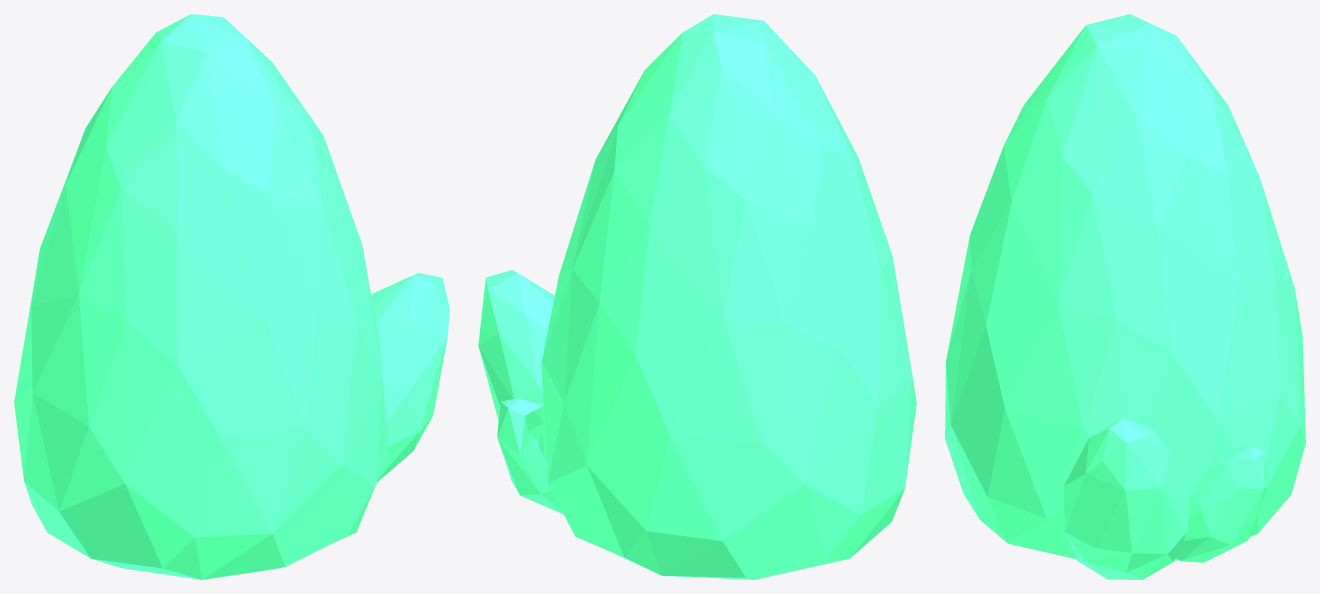
File: Crsital_Cura.fbx
The picture shows the model from 3 angles, left to right: view 1: azimuth 30°, elevation 25°; view 2: azimuth 150°, elevation 25°; view 3: azimuth 270°, elevation 25°; orthographic projection. The views are drawn at different scales.
Parts seen in each view (by area): view 1: Cristal 1; view 2: Cristal 1; view 3: Cristal 1.
Part boxes in pixels (box(x1,y1,x2,y2)): Cristal 1: box(14, 14, 449, 579); Cristal 1: box(478, 14, 916, 579); Cristal 1: box(945, 14, 1305, 579).
Bounding box in the file's own units: 246 × 291 × 195.
